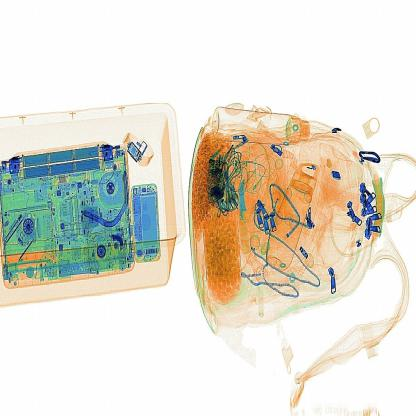wrench: (230, 164, 255, 263)
